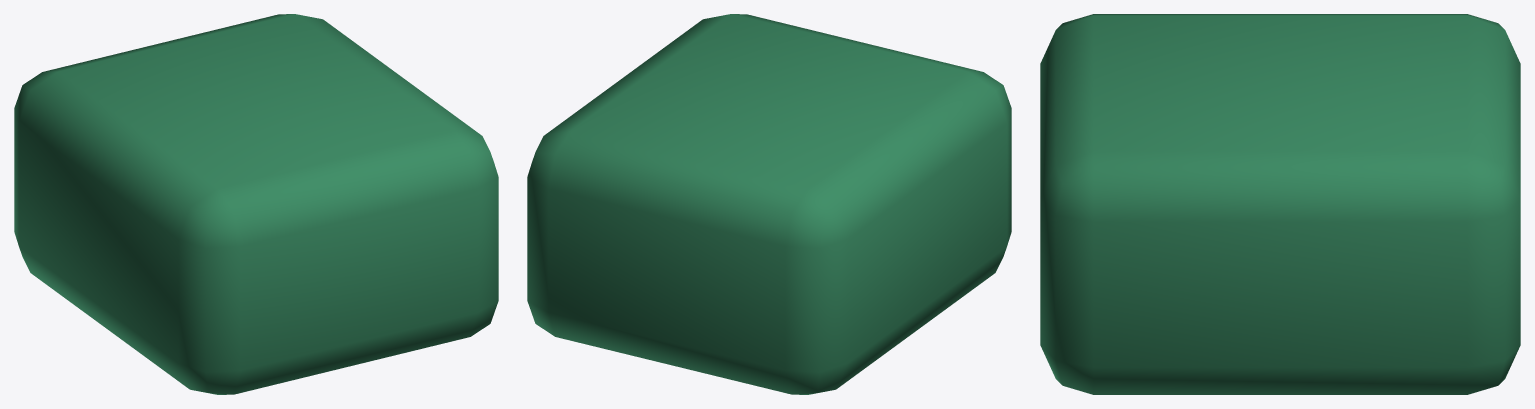
File: GEO_CROSSOVER_Mirror_Housing_L.glb
The picture shows the model from 3 angles, left to right: view 1: azimuth 30°, elevation 25°; view 2: azimuth 150°, elevation 25°; view 3: azimuth 270°, elevation 25°; orthographic projection. The views are drawn at different scales.
Parts seen in each view (by area): view 1: GEO_CROSSOVER_Mirror_Housing_L; view 2: GEO_CROSSOVER_Mirror_Housing_L; view 3: GEO_CROSSOVER_Mirror_Housing_L.
Part boxes in pixels (x1,y1,x2,y2): GEO_CROSSOVER_Mirror_Housing_L: (14,14,498,394); GEO_CROSSOVER_Mirror_Housing_L: (527,14,1011,394); GEO_CROSSOVER_Mirror_Housing_L: (1040,14,1520,394).
Bounding box in the file's own units: 0.16 × 0.1 × 0.18.
